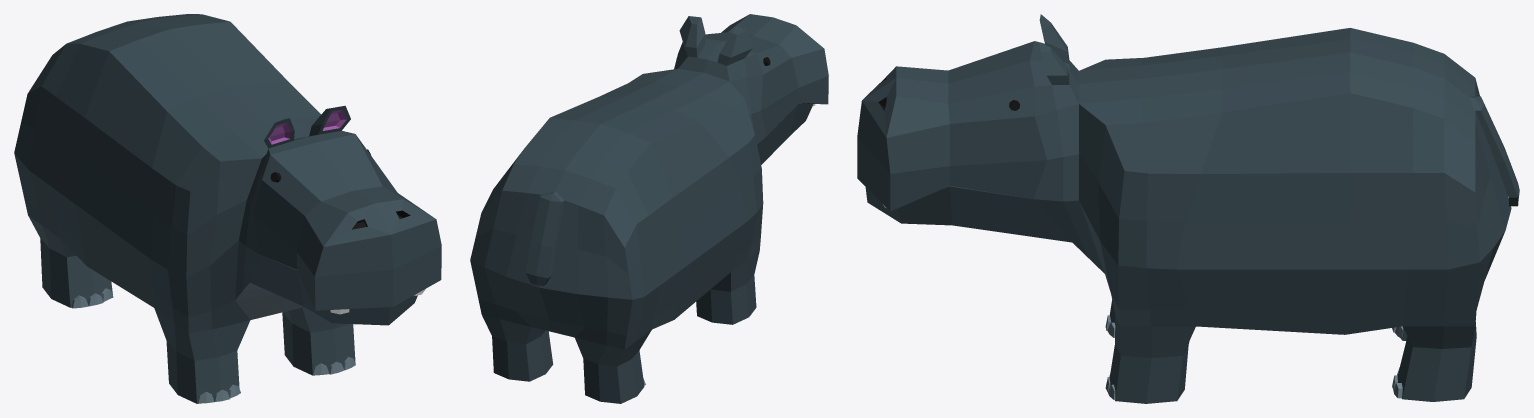
The model's file is Hippo_01.fbx.
The picture shows the model from 3 angles, left to right: view 1: azimuth 30°, elevation 25°; view 2: azimuth 150°, elevation 25°; view 3: azimuth 270°, elevation 25°; orthographic projection. The views are drawn at different scales.
Parts seen in each view (by area): view 1: Hippo_01; view 2: Hippo_01; view 3: Hippo_01.
Boxes of the visible parts, x1,y1,x2,y2 form: Hippo_01: [14, 14, 441, 403]; Hippo_01: [470, 14, 828, 403]; Hippo_01: [857, 14, 1519, 403].
Bounding box in the file's own units: 7.73 × 11.31 × 20.75.
